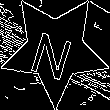N_N: (30, 19, 80, 79)
